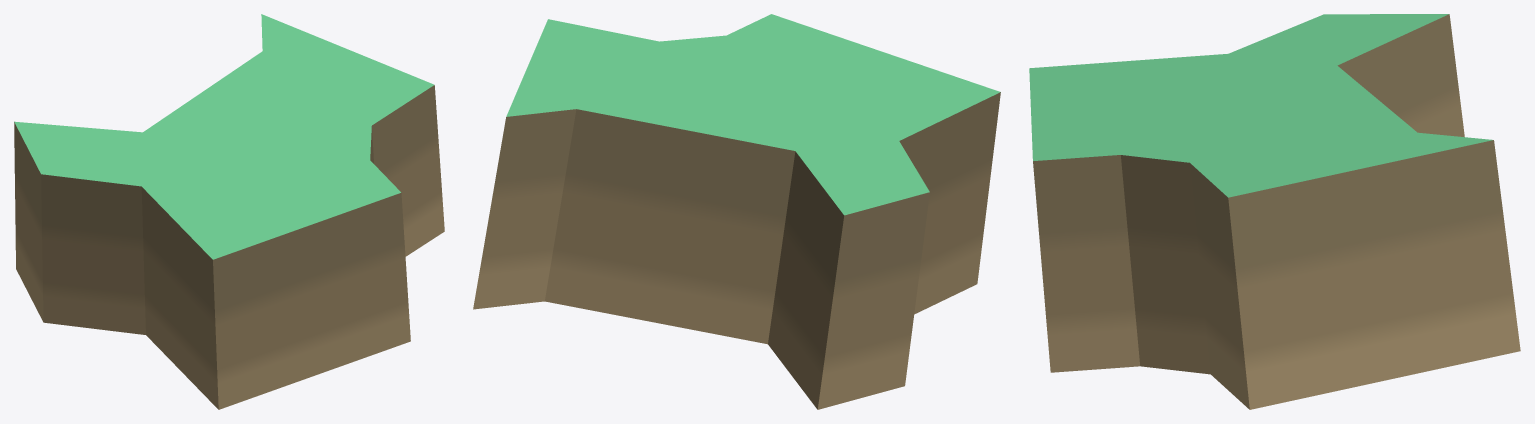
Rendered from 0642_Cote_d_Ivoire.glb.
The picture shows the model from 3 angles, left to right: view 1: azimuth 30°, elevation 25°; view 2: azimuth 150°, elevation 25°; view 3: azimuth 270°, elevation 25°; orthographic projection. The views are drawn at different scales.
Parts seen in each view (by area): view 1: part_0; view 2: part_0; view 3: part_0.
Part boxes in pixels (x1,y1,x2,y2): part_0: [14, 14, 444, 409]; part_0: [473, 14, 1000, 409]; part_0: [1029, 14, 1520, 409].
Size of the model in its own units: 0.4923 by 0.2694 by 0.4384.
1 material, 1 textured.
